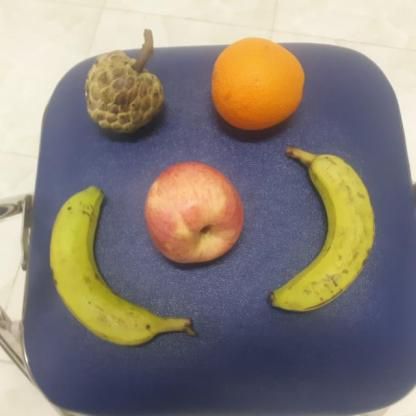annona: (84, 51, 164, 132)
apple: (139, 159, 253, 271)
banana: (47, 186, 193, 348), (264, 146, 376, 312)
orange: (209, 36, 304, 134)
